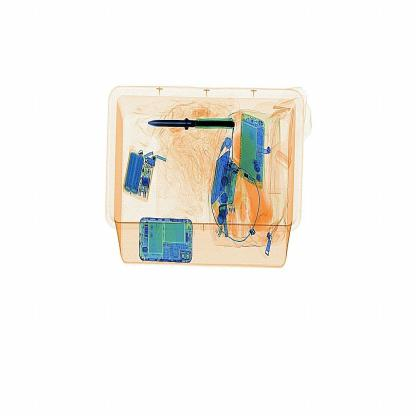gun: (143, 110, 242, 137)
